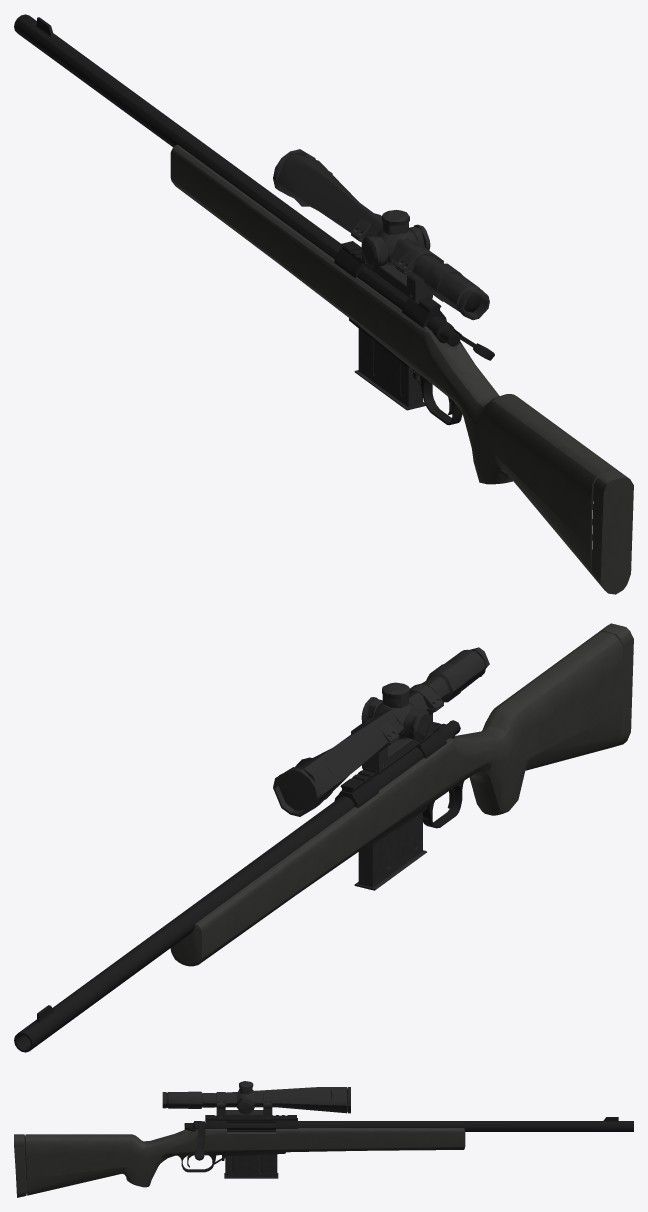
The picture shows the model from 3 angles, top to bottom: view 1: azimuth 30°, elevation 25°; view 2: azimuth 150°, elevation 25°; view 3: azimuth 270°, elevation 25°; orthographic projection. The views are drawn at different scales.
Size of the model in its own units: 0.0855 by 0.2214 by 1.09.
8 materials, 3 textured.
